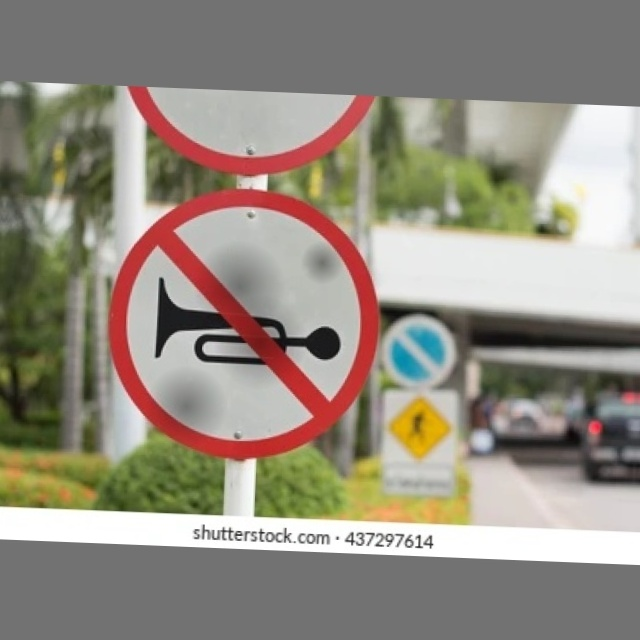Horn_Prohibited: (102, 185, 385, 461)
